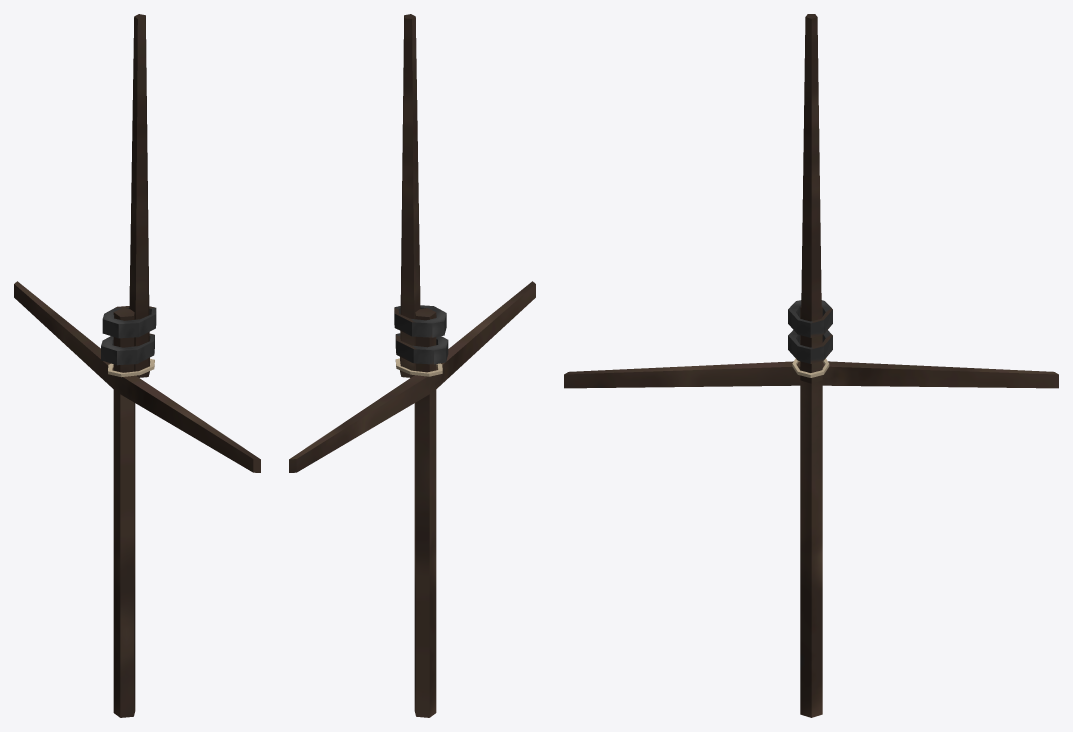
File: M_hune_5.fbx
The picture shows the model from 3 angles, left to right: view 1: azimuth 30°, elevation 25°; view 2: azimuth 150°, elevation 25°; view 3: azimuth 270°, elevation 25°; orthographic projection.
Parts seen in each view (by area): view 1: polySurface279; view 2: polySurface279; view 3: polySurface279.
Boxes of the visible parts, x1=… form: polySurface279: x1=14, y1=14, x2=260, y2=717; polySurface279: x1=289, y1=14, x2=535, y2=717; polySurface279: x1=564, y1=14, x2=1058, y2=717.
Size of the model in its own units: 69.85 by 863 by 549.
1 material, 1 textured.
